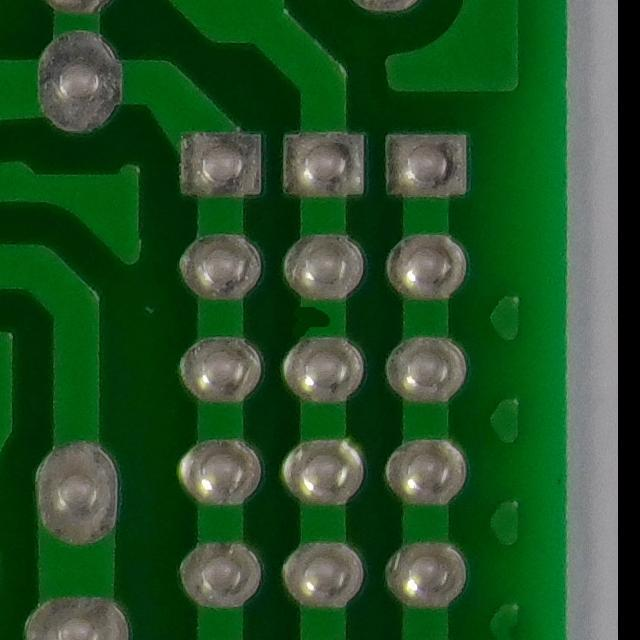mouse_bite: (288, 293, 353, 348)
